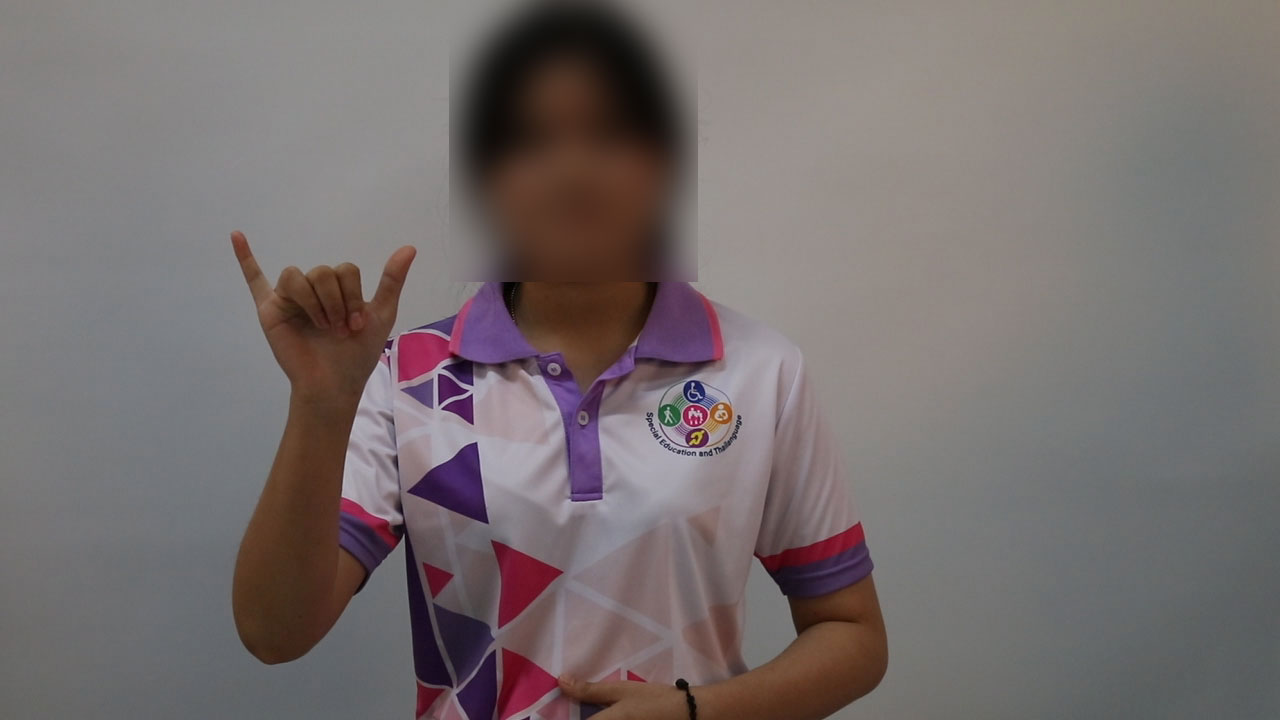yor: (206, 221, 433, 407)
